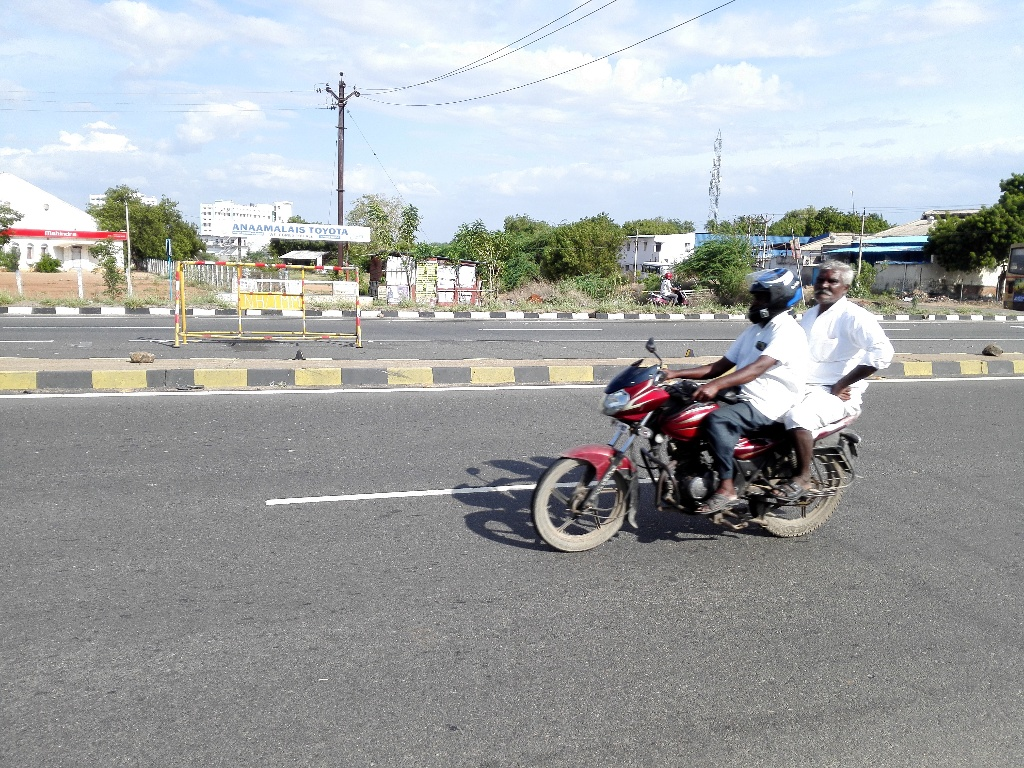biker: (516, 226, 925, 561)
helmet: (735, 248, 810, 343)
nohelmet: (810, 241, 862, 316)
